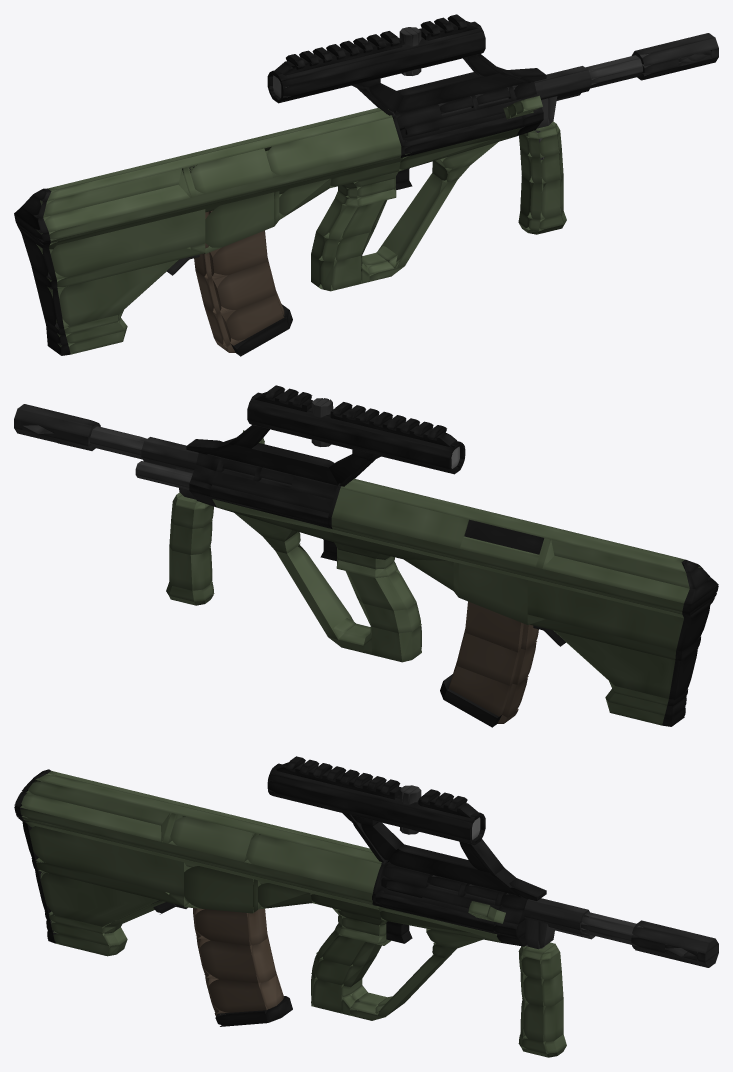
The model's file is aug1.obj.
3 renders of one model, top to bottom at view 1: azimuth 30°, elevation 25°; view 2: azimuth 150°, elevation 25°; view 3: azimuth 330°, elevation 25°, orthographic.
Parts seen in each view (by area): view 1: defaultStockModel4, defaultStockModel3, gunModel27, defaultStockModel7, defaultStockModel0, gunModel33, gunModel43, gunModel127, gunModel31, defaultStockModel15, defaultScopeModel1, defaultStockModel16 (+38 smaller); view 2: defaultStockModel4, defaultStockModel3, gunModel27, defaultStockModel7, defaultStockModel0, gunModel33, gunModel43, gunModel127, defaultStockModel15, defaultScopeModel3, defaultStockModel16, ammoModel2 (+39 smaller); view 3: defaultStockModel4, defaultStockModel3, gunModel27, defaultStockModel7, defaultStockModel0, gunModel33, gunModel31, gunModel127, defaultStockModel15, defaultScopeModel1, defaultStockModel16, ammoModel2 (+38 smaller).
Part boxes in pixels (x1=…): defaultStockModel4: x1=36, y1=209, x2=205, y2=279; defaultStockModel3: x1=47, y1=108, x2=392, y2=201; gunModel27: x1=264, y1=117, x2=401, y2=177; defaultStockModel7: x1=47, y1=259, x2=178, y2=327; defaultStockModel0: x1=36, y1=146, x2=401, y2=240; gunModel33: x1=205, y1=192, x2=274, y2=253; gunModel43: x1=378, y1=172, x2=457, y2=267; gunModel127: x1=395, y1=72, x2=525, y2=114; gunModel31: x1=182, y1=148, x2=272, y2=195; defaultStockModel15: x1=44, y1=184, x2=190, y2=232; defaultScopeModel1: x1=281, y1=38, x2=485, y2=97; defaultStockModel16: x1=40, y1=168, x2=181, y2=217; defaultStockModel4: x1=527, y1=580, x2=683, y2=650; defaultStockModel3: x1=340, y1=479, x2=685, y2=572; gunModel27: x1=331, y1=488, x2=468, y2=548; defaultStockModel7: x1=554, y1=630, x2=675, y2=698; defaultStockModel0: x1=331, y1=517, x2=683, y2=611; gunModel33: x1=458, y1=563, x2=527, y2=624; gunModel43: x1=275, y1=545, x2=353, y2=639; gunModel127: x1=209, y1=443, x2=337, y2=485; defaultStockModel15: x1=542, y1=555, x2=689, y2=603; defaultScopeModel3: x1=247, y1=409, x2=451, y2=468; defaultStockModel16: x1=551, y1=539, x2=700, y2=588; ammoModel2: x1=457, y1=633, x2=519, y2=685; defaultStockModel4: x1=29, y1=826, x2=191, y2=896; defaultStockModel3: x1=35, y1=771, x2=381, y2=863; gunModel27: x1=244, y1=833, x2=381, y2=893; defaultStockModel7: x1=40, y1=871, x2=158, y2=926; defaultStockModel0: x1=20, y1=809, x2=372, y2=901; gunModel33: x1=184, y1=866, x2=253, y2=913; gunModel31: x1=168, y1=816, x2=254, y2=861; gunModel127: x1=386, y1=844, x2=515, y2=894; defaultStockModel15: x1=20, y1=781, x2=162, y2=841; defaultScopeModel1: x1=267, y1=779, x2=471, y2=839; defaultStockModel16: x1=26, y1=773, x2=171, y2=825; ammoModel2: x1=199, y1=935, x2=259, y2=983.
Size of the model in its own units: 20.3 by 7.8 by 2.2.
